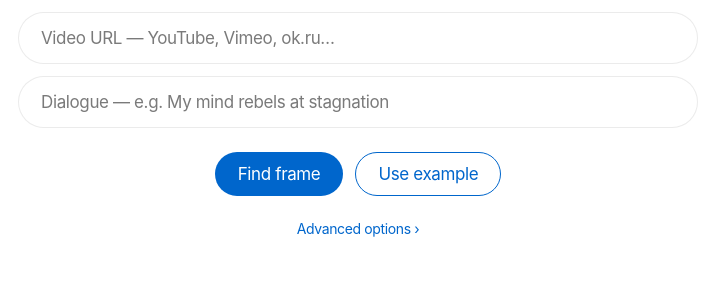
it: SearchForm › rejects non-http URLs
Type "C:/videos/movie.mp4" into the field labelled "Video URL" at (358, 38), box [18, 12, 698, 64]
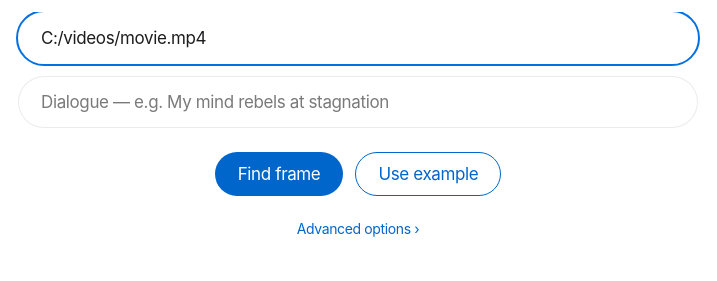
Type "hello" into the field labelled "Dialogue" at (358, 102), box [18, 76, 698, 128]
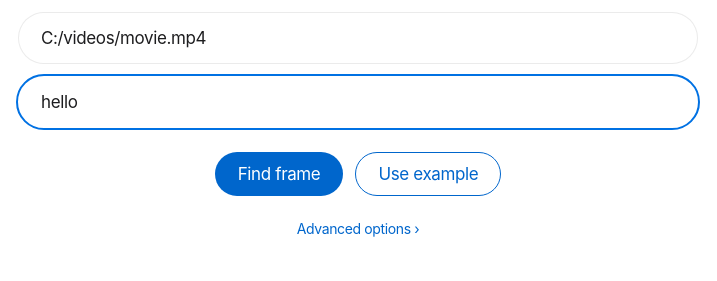
Click the button "Find frame" at (279, 174), box [215, 152, 343, 196]
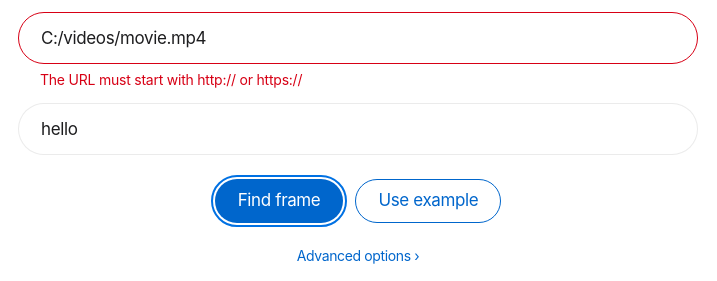
Expected: the text "The URL must start with http:// or https://" is shown, [40, 71, 302, 88]
